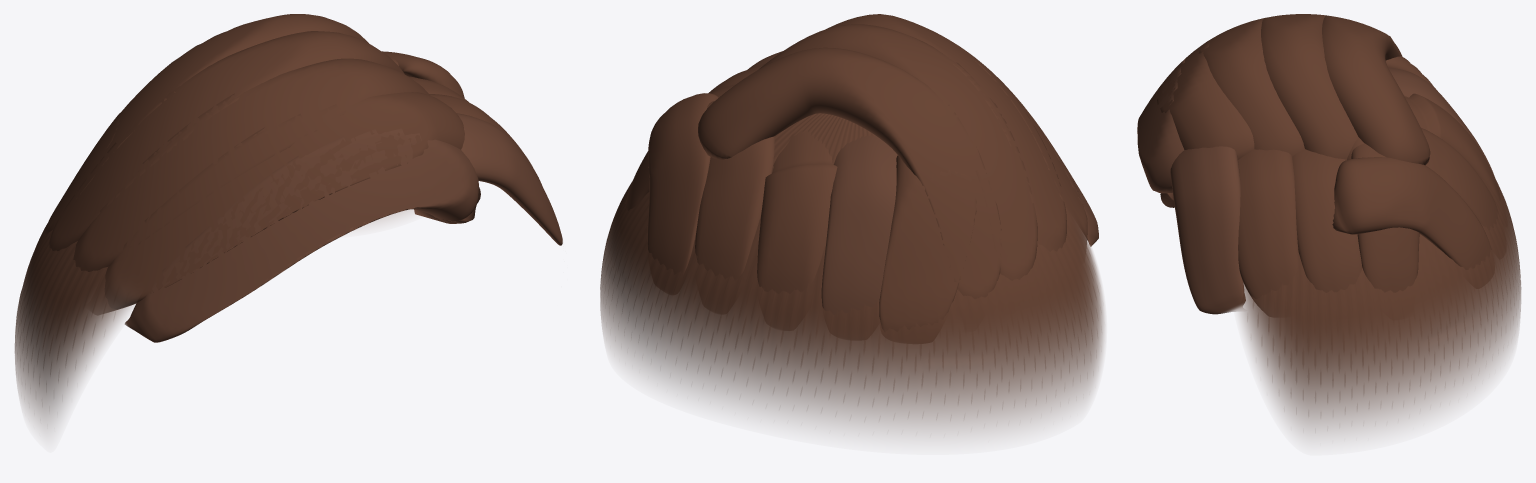
File: Masculine-taper-beanie257-hair.glb
3 views of the same model, side by side, from view 1: azimuth 30°, elevation 25°; view 2: azimuth 150°, elevation 25°; view 3: azimuth 270°, elevation 25° (orthographic). The views are drawn at different scales.
Visible parts, largest first — view 1: 226 hair / Hair252 / sculpted locks, 226 hair / Hair252 / gentle tonal variation, 226 hair / Hair257 / smooth side fade, 226 hair / Hair257 / directional fade marks; view 2: 226 hair / Hair252 / sculpted locks, 226 hair / Hair257 / smooth side fade, 226 hair / Hair252 / gentle tonal variation, 226 hair / Hair257 / directional fade marks; view 3: 226 hair / Hair252 / sculpted locks, 226 hair / Hair257 / smooth side fade, 226 hair / Hair252 / gentle tonal variation, 226 hair / Hair257 / directional fade marks.
Boxes of the visible parts, <box> form: 226 hair / Hair252 / sculpted locks: <box>43,14,541,313</box>; 226 hair / Hair252 / gentle tonal variation: <box>125,113,562,342</box>; 226 hair / Hair257 / smooth side fade: <box>15,210,411,429</box>; 226 hair / Hair257 / directional fade marks: <box>16,230,106,384</box>; 226 hair / Hair252 / sculpted locks: <box>625,14,1087,332</box>; 226 hair / Hair257 / smooth side fade: <box>600,113,1104,434</box>; 226 hair / Hair252 / gentle tonal variation: <box>747,51,1098,314</box>; 226 hair / Hair257 / directional fade marks: <box>607,184,1097,404</box>; 226 hair / Hair252 / sculpted locks: <box>1156,14,1500,313</box>; 226 hair / Hair257 / smooth side fade: <box>1238,95,1520,435</box>; 226 hair / Hair252 / gentle tonal variation: <box>1137,57,1494,314</box>; 226 hair / Hair257 / directional fade marks: <box>1253,185,1519,402</box>.
Size of the model in its own units: 0.9723 by 0.6941 by 0.722.
